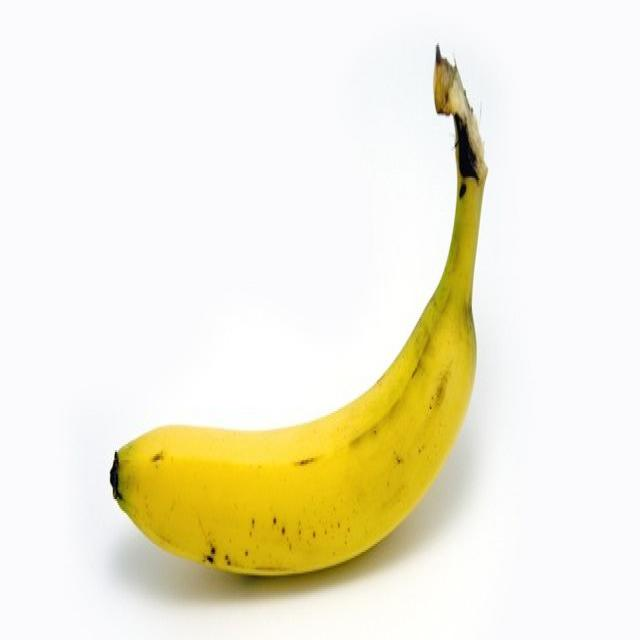banana: (105, 48, 495, 584)
